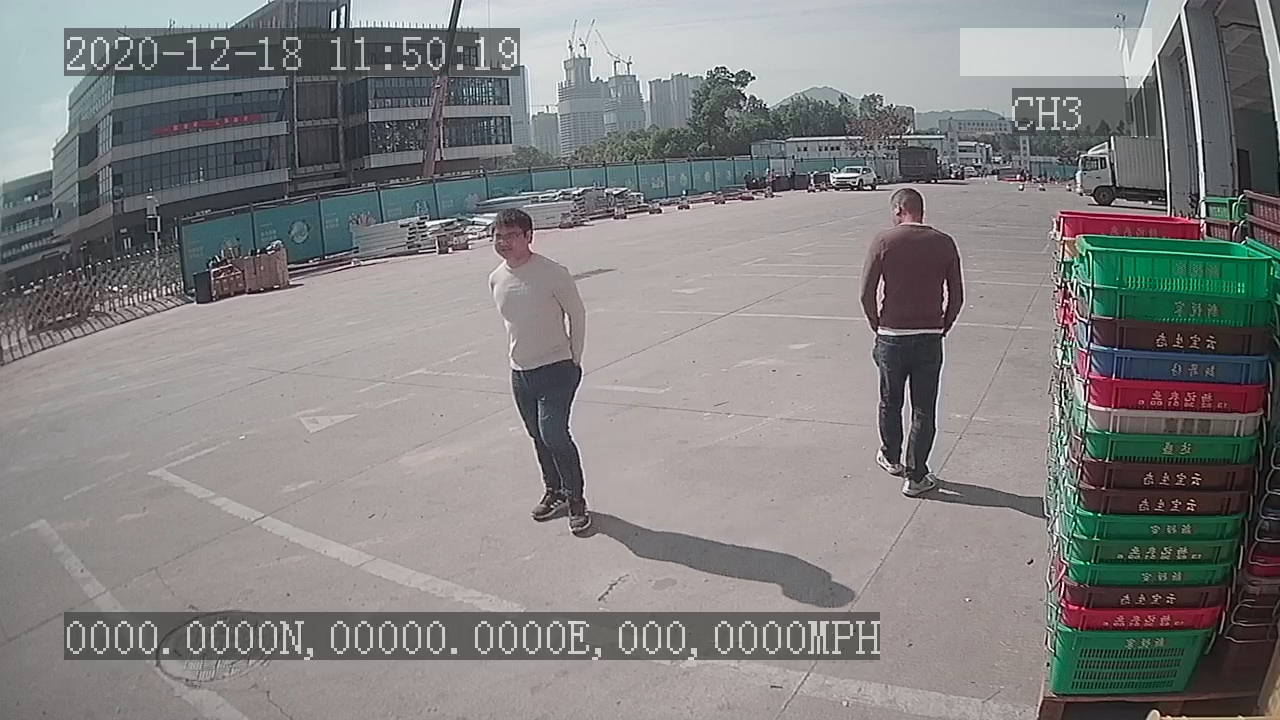person: (488, 206, 601, 540), (856, 185, 968, 501)
